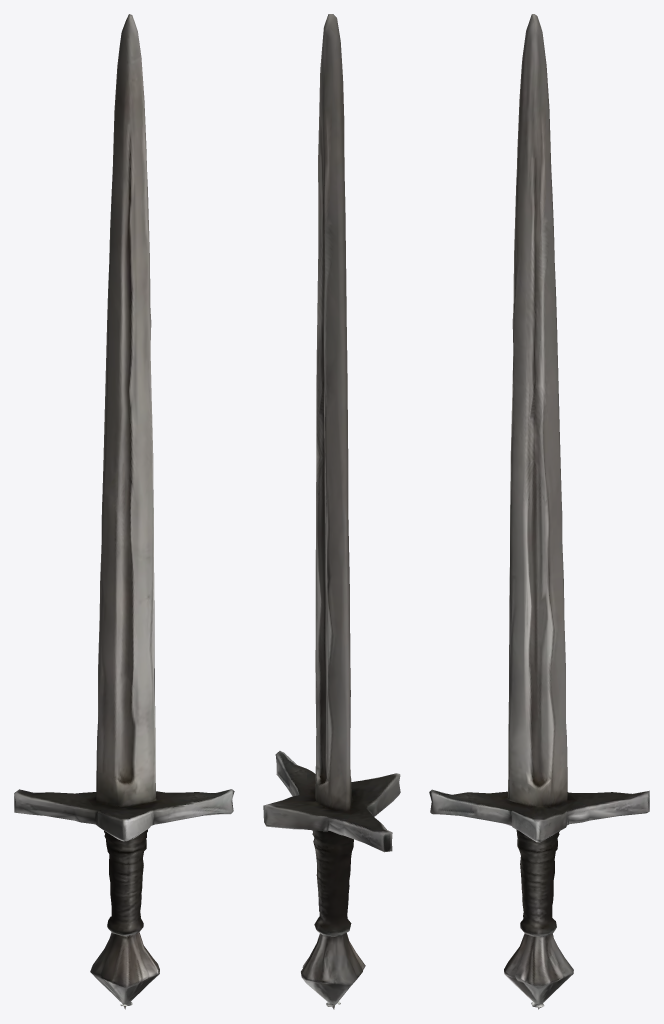
File: sword_arming.glb
3 renders of one model, left to right at view 1: azimuth 90°, elevation 25°; view 2: azimuth 210°, elevation 25°; view 3: azimuth 270°, elevation 25°, orthographic.
Parts seen in each view (by area): view 1: sword_med_arming; view 2: sword_med_arming; view 3: sword_med_arming.
Boxes of the visible parts, left/top/right/bottom form: sword_med_arming: left=14, top=14, right=234, bottom=1009; sword_med_arming: left=263, top=14, right=400, bottom=1009; sword_med_arming: left=429, top=14, right=649, bottom=1009.
Size of the model in its own units: 0.1426 by 1 by 0.2006.
1 material, 1 textured.
